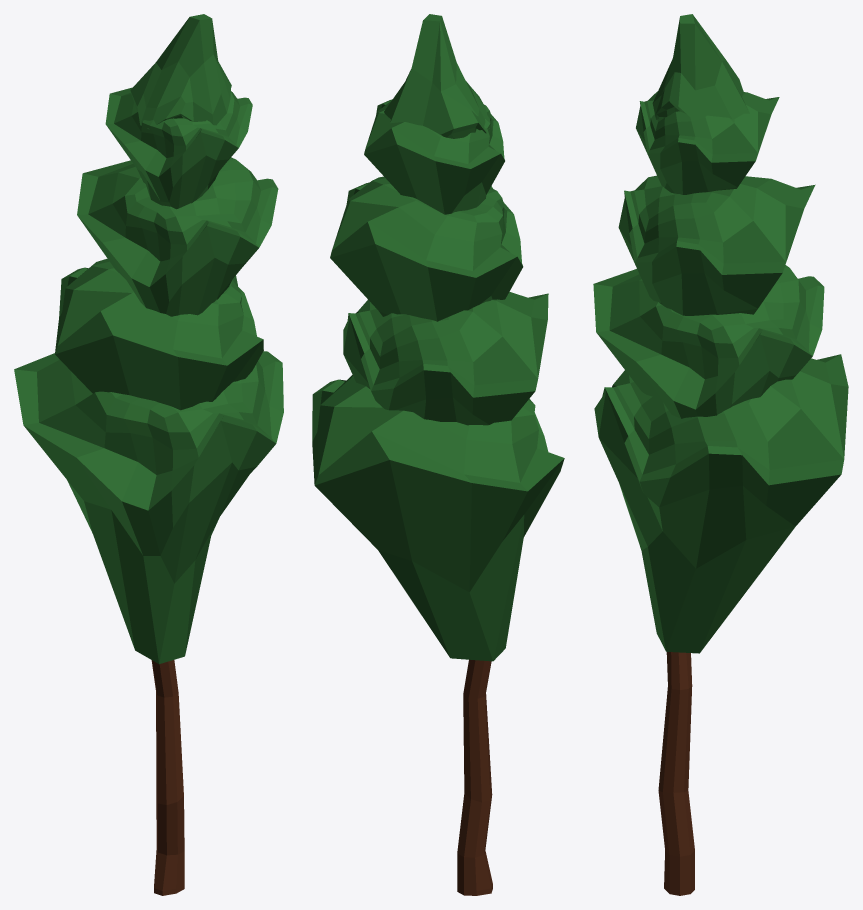
The model's file is tree2.glb.
3 renders of one model, left to right at view 1: azimuth 30°, elevation 25°; view 2: azimuth 150°, elevation 25°; view 3: azimuth 270°, elevation 25°, orthographic. The views are drawn at different scales.
Parts seen in each view (by area): view 1: Cube.266_leaves_0; view 2: Cube.266_leaves_0; view 3: Cube.266_leaves_0.
Boxes of the visible parts, left/top/right/bottom form: Cube.266_leaves_0: left=14, top=14, right=283, bottom=895; Cube.266_leaves_0: left=312, top=14, right=564, bottom=895; Cube.266_leaves_0: left=593, top=14, right=848, bottom=895.
Size of the model in its own units: 13.73 by 49.26 by 12.83.
